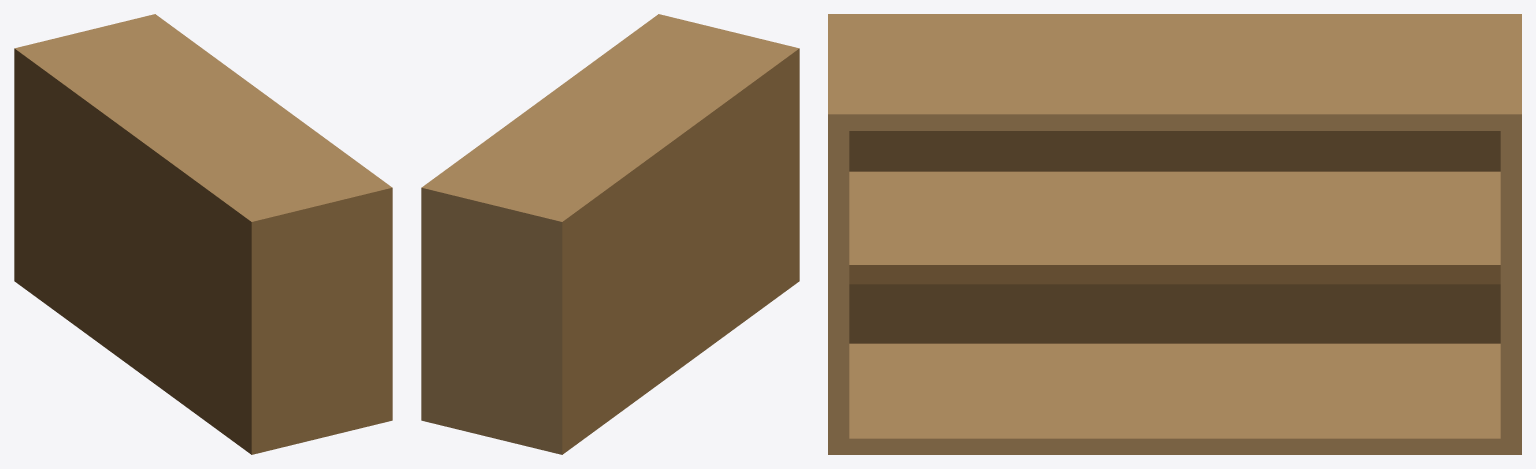
Rendered from Шкафчик.fbx.
3 views of the same model, side by side, from view 1: azimuth 30°, elevation 25°; view 2: azimuth 150°, elevation 25°; view 3: azimuth 270°, elevation 25° (orthographic). The views are drawn at different scales.
Visible parts, largest first — view 1: Cube.002; view 2: Cube.002; view 3: Cube.002.
Part boxes in pixels (x1,y1,x2,y2): Cube.002: (14, 14, 392, 454); Cube.002: (421, 14, 799, 454); Cube.002: (828, 14, 1521, 454).
Bounding box in the file's own units: 117 × 184 × 340.
